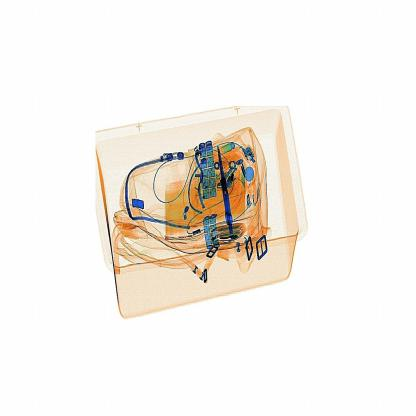gun: (210, 134, 243, 240)
